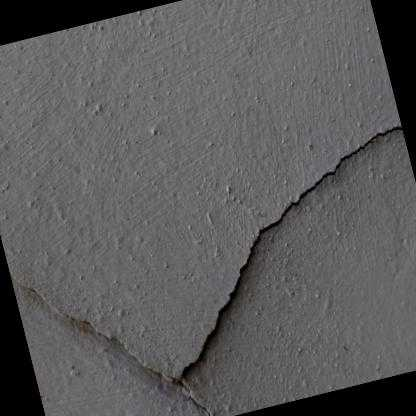crack: (9, 125, 403, 416)
